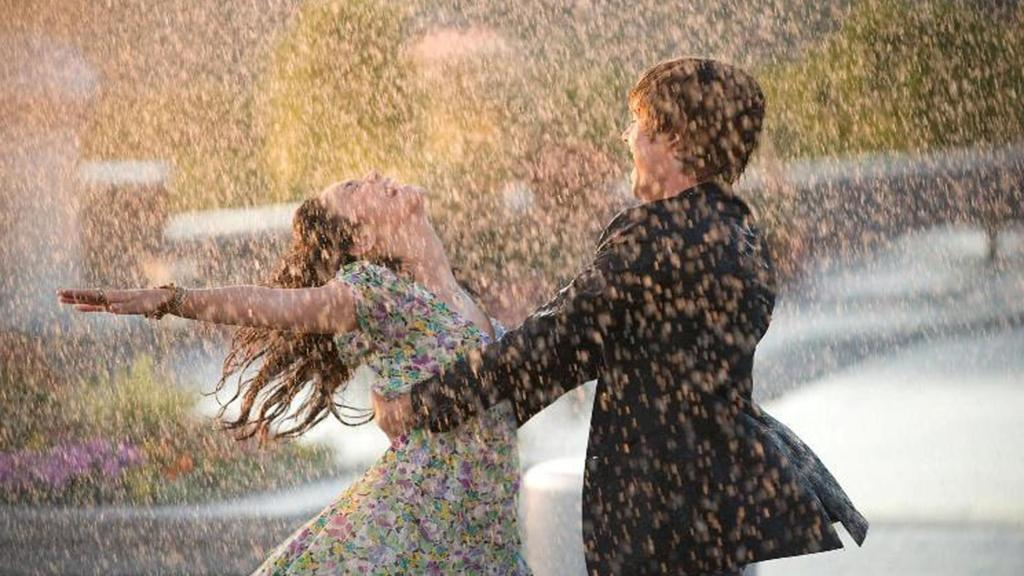face: (320, 170, 426, 225), (620, 96, 671, 199)
